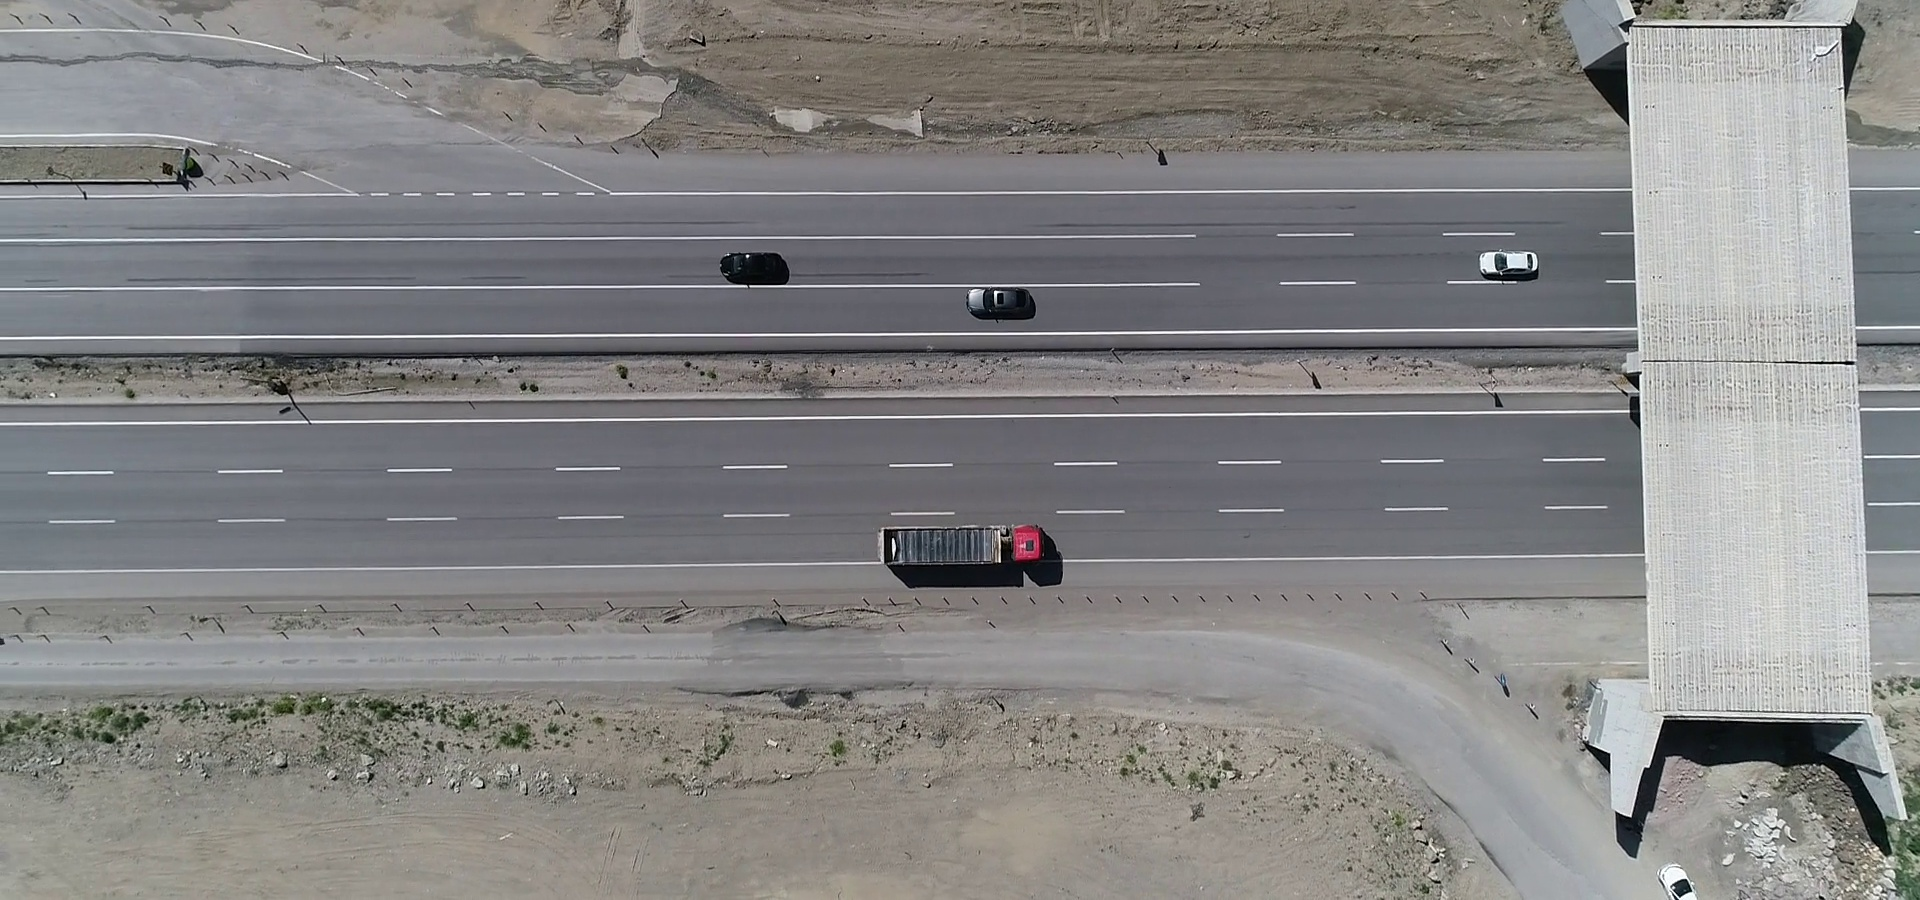arac: (876, 519, 1056, 585), (958, 278, 1037, 324), (714, 251, 801, 283), (1478, 249, 1544, 280)
